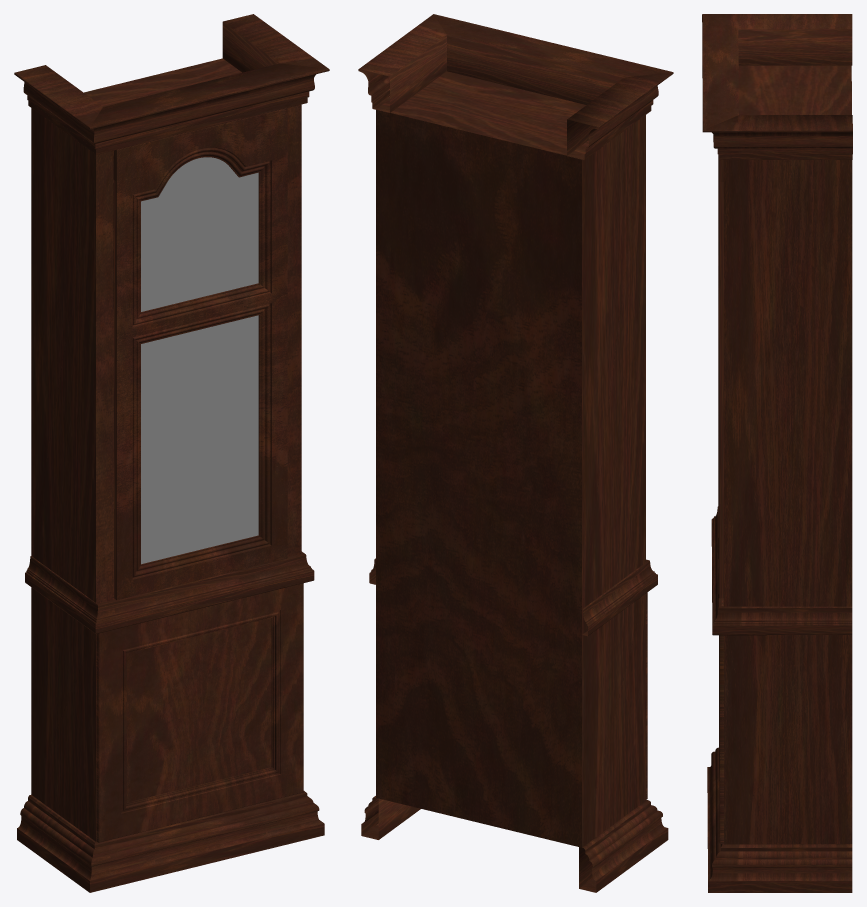
File: Clock 4.FBX
3 views of the same model, side by side, from view 1: azimuth 30°, elevation 25°; view 2: azimuth 150°, elevation 25°; view 3: azimuth 270°, elevation 25° (orthographic).
Parts seen in each view (by area): view 1: clock 4; view 2: clock 4; view 3: clock 4.
Boxes of the visible parts, x1=… form: clock 4: x1=14, y1=14, x2=329, y2=892; clock 4: x1=358, y1=14, x2=673, y2=892; clock 4: x1=702, y1=14, x2=852, y2=892.
Size of the model in its own units: 69.76 by 213 by 38.09.
